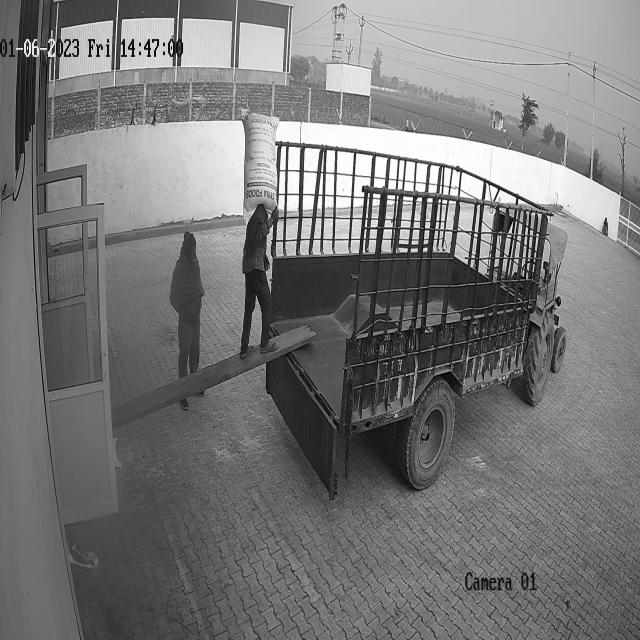sack: (240, 108, 280, 224)
